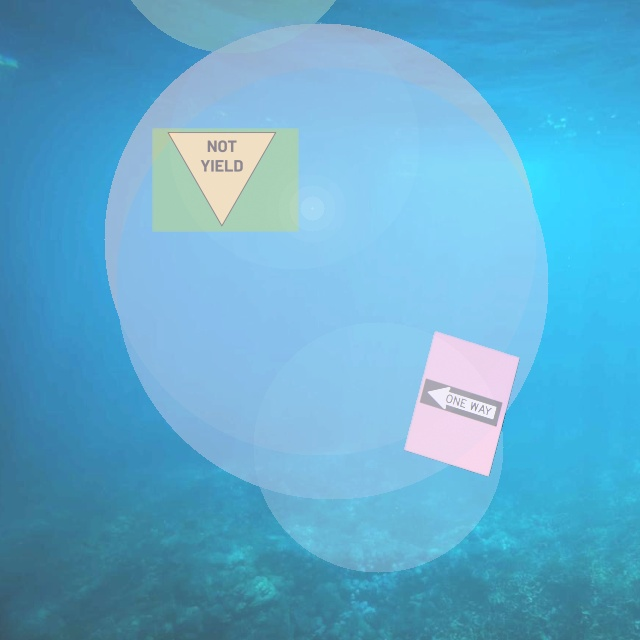NOT_YIELD: (168, 132, 276, 226)
ONE_WAY_ left: (419, 378, 503, 427)
